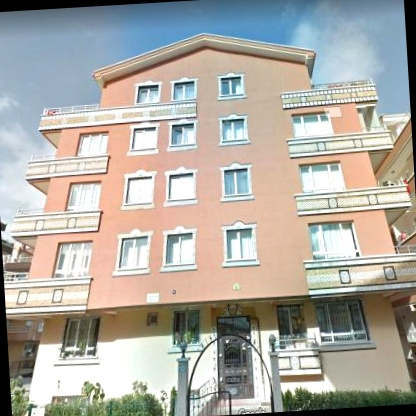door: (216, 334, 254, 399), (217, 316, 251, 344), (277, 307, 294, 349)
